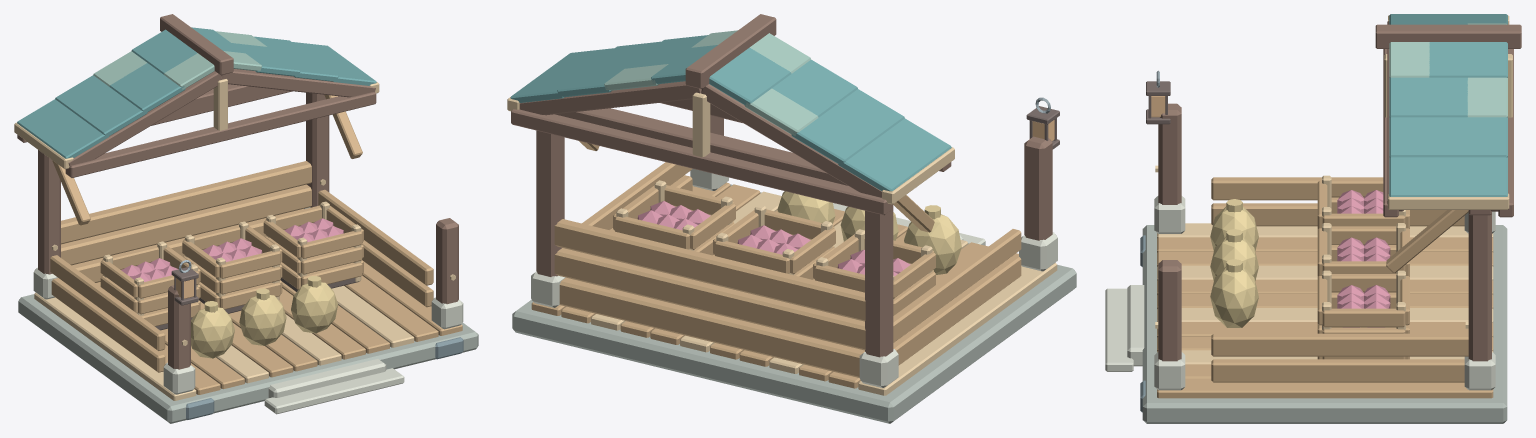
Rendered from food_storage.fbx.
3 views of the same model, side by side, from view 1: azimuth 30°, elevation 25°; view 2: azimuth 150°, elevation 25°; view 3: azimuth 270°, elevation 25° (orthographic). The views are drawn at different scales.
Visible parts, largest first — view 1: food_storage_mesh; view 2: food_storage_mesh; view 3: food_storage_mesh.
Part boxes in pixels (x1,y1,x2,y2): food_storage_mesh: (14,14,478,423); food_storage_mesh: (507,14,1076,423); food_storage_mesh: (1105,14,1521,423).
Size of the model in its own units: 3.37 by 2.62 by 3.22.
